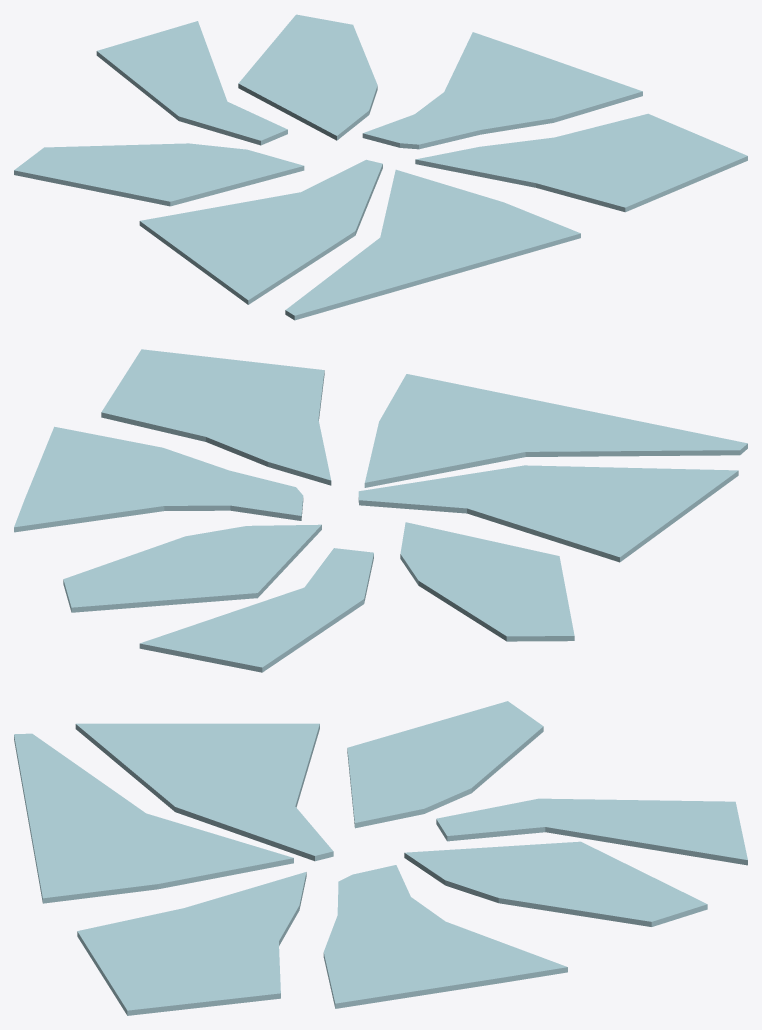
The model's file is Prop_Vidrio_low.fbx.
3 views of the same model, one above another, from view 1: azimuth 30°, elevation 25°; view 2: azimuth 150°, elevation 25°; view 3: azimuth 270°, elevation 25° (orthographic). The views are drawn at different scales.
Visible parts, largest first — view 1: pasted__pCube6; view 2: pasted__pCube6; view 3: pasted__pCube6.
Part boxes in pixels (left/top/right/bottom): pasted__pCube6: left=14, top=14, right=747, bottom=320; pasted__pCube6: left=14, top=349, right=747, bottom=672; pasted__pCube6: left=14, top=701, right=747, bottom=1015.
Bounding box in the file's own units: 119 × 1.02 × 119.
